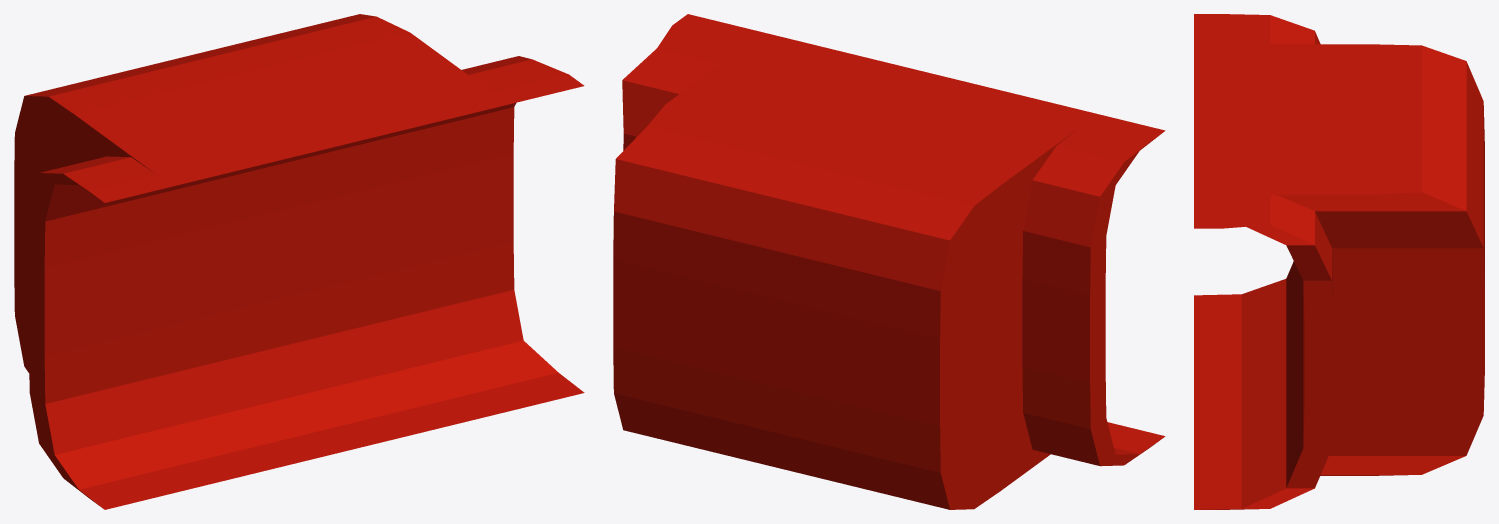
The picture shows the model from 3 angles, left to right: view 1: azimuth 30°, elevation 25°; view 2: azimuth 150°, elevation 25°; view 3: azimuth 270°, elevation 25°; orthographic projection. The views are drawn at different scales.
Parts seen in each view (by area): view 1: Base.001; view 2: Base.001; view 3: Base.001.
Part boxes in pixels (box(x1,y1,x2,y2)): Base.001: box(14, 14, 584, 509); Base.001: box(613, 14, 1165, 509); Base.001: box(1194, 14, 1484, 509).
Size of the model in its own units: 0.1034 by 0.0632 by 0.0592.
